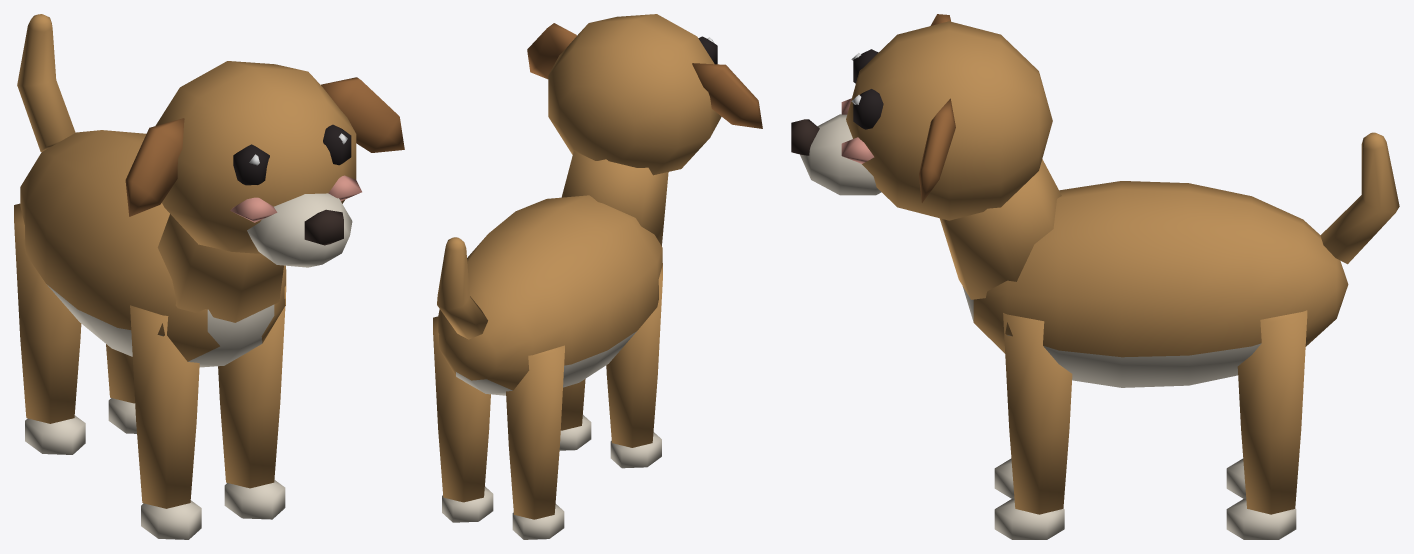
File: dog.glb
3 renders of one model, left to right at view 1: azimuth 30°, elevation 25°; view 2: azimuth 150°, elevation 25°; view 3: azimuth 270°, elevation 25°, orthographic. The views are drawn at different scales.
Parts seen in each view (by area): view 1: head, body, leg_fr, leg_br, leg_fl, tail, head_body_nh, leg_bl; view 2: head, body, leg_br, leg_bl, leg_fr, tail, leg_fl; view 3: body, head, leg_bl, leg_fl, tail, head_body_nh.
Part boxes in pixels (box(x1,y1,x2,y2)): head: box(125, 61, 404, 322); body: box(20, 130, 285, 367); leg_fr: box(130, 305, 201, 539); leg_br: box(14, 203, 85, 454); leg_fl: box(218, 269, 286, 519); tail: box(17, 14, 75, 151); head_body_nh: box(230, 124, 361, 222); leg_bl: box(106, 344, 136, 433); head: box(527, 14, 762, 245); body: box(438, 195, 662, 395); leg_br: box(506, 345, 564, 539); leg_bl: box(433, 316, 493, 522); leg_fr: box(606, 263, 662, 468); tail: box(437, 237, 487, 339); leg_fl: box(559, 379, 591, 450); body: box(962, 181, 1348, 387); head: box(791, 14, 1061, 299); leg_bl: box(1226, 310, 1307, 539); leg_fl: box(994, 313, 1072, 539); tail: box(1320, 132, 1399, 264); head_body_nh: box(841, 49, 883, 163).
Size of the model in its own units: 0.4938 by 0.8367 by 0.9448.
